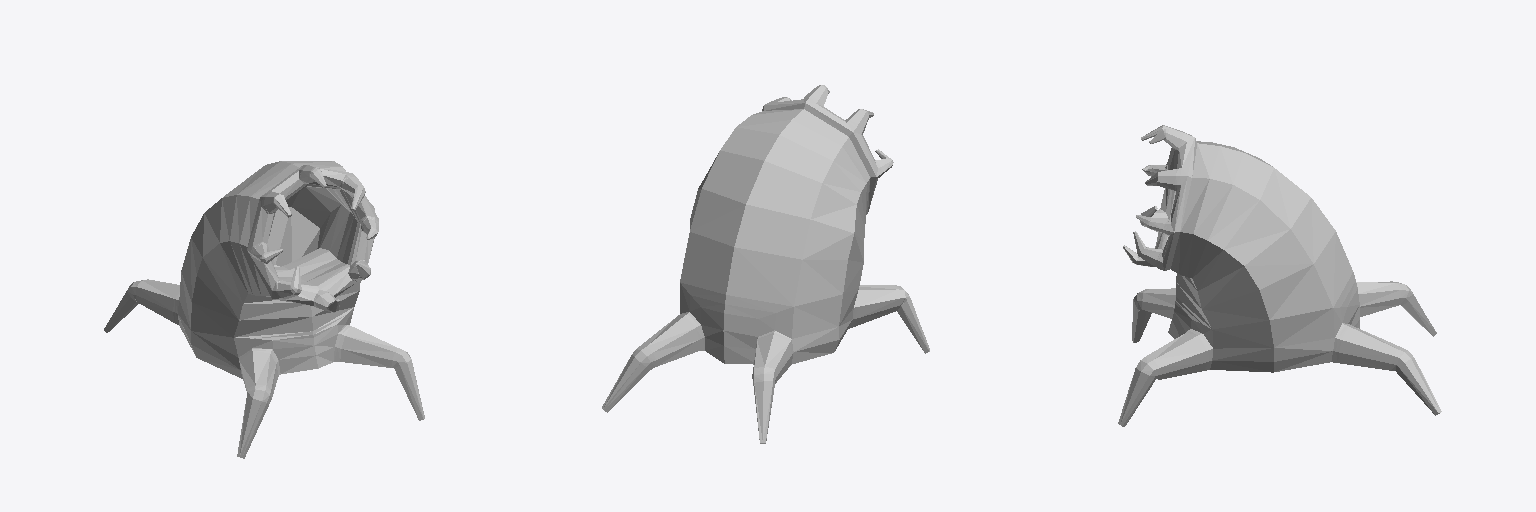
Rendered from lilgribblertest.obj.
The picture shows the model from 3 angles: view 1: azimuth 30°, elevation 25°; view 2: azimuth 150°, elevation 25°; view 3: azimuth 270°, elevation 25°; orthographic projection.
Parts seen in each view (by area): view 1: Lil_Monsta_Cylinder; view 2: Lil_Monsta_Cylinder; view 3: Lil_Monsta_Cylinder.
Part boxes in pixels (x1,y1,x2,y2): Lil_Monsta_Cylinder: (104,161,424,458); Lil_Monsta_Cylinder: (602,85,929,443); Lil_Monsta_Cylinder: (1118,125,1441,426).
Bounding box in the file's own units: 83.16 × 113 × 129.